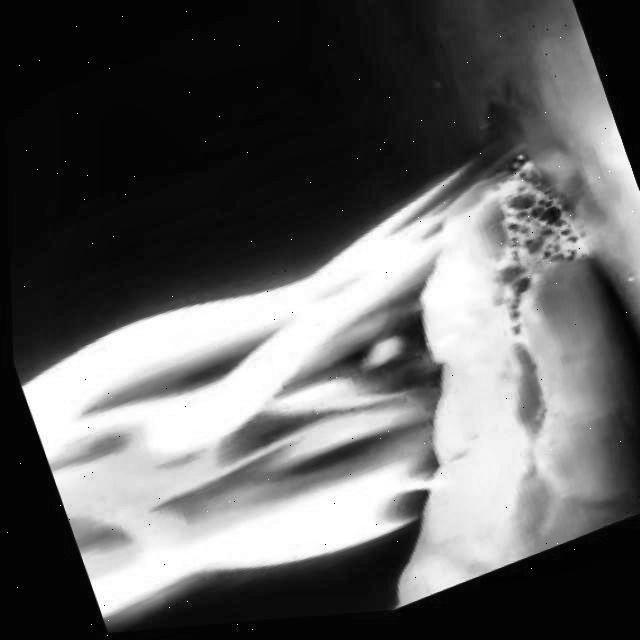Fire: (5, 134, 633, 640)
